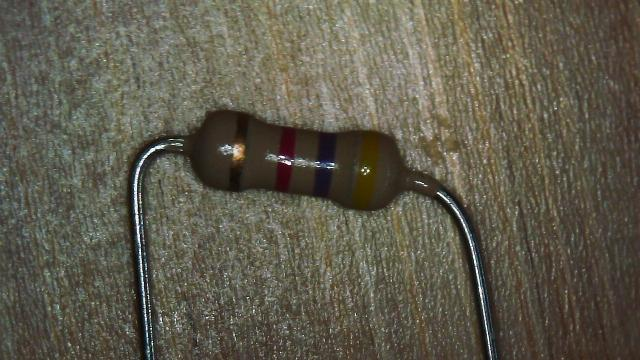gold: (229, 112, 248, 190)
red: (276, 127, 294, 192)
resistor: (180, 85, 441, 234)
violet: (314, 133, 336, 198)
yellow: (354, 130, 378, 208)
